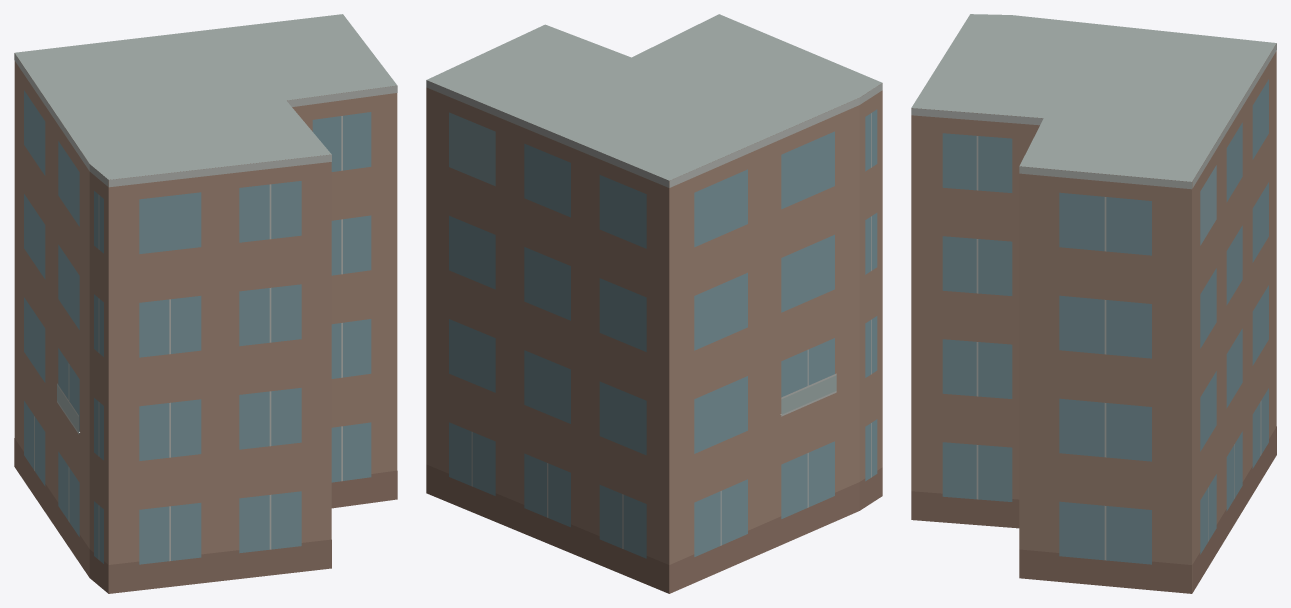
The model's file is survey-upis-33030767.glb.
The picture shows the model from 3 angles, left to right: view 1: azimuth 30°, elevation 25°; view 2: azimuth 150°, elevation 25°; view 3: azimuth 270°, elevation 25°; orthographic projection.
Visible parts, largest first — view 1: survey-upis-33030767.tmp; view 2: survey-upis-33030767.tmp; view 3: survey-upis-33030767.tmp.
Part boxes in pixels (x1,y1,x2,y2): survey-upis-33030767.tmp: [14, 14, 397, 593]; survey-upis-33030767.tmp: [426, 14, 882, 593]; survey-upis-33030767.tmp: [911, 14, 1276, 593].
Size of the model in its own units: 11.94 by 13.65 by 10.99.
